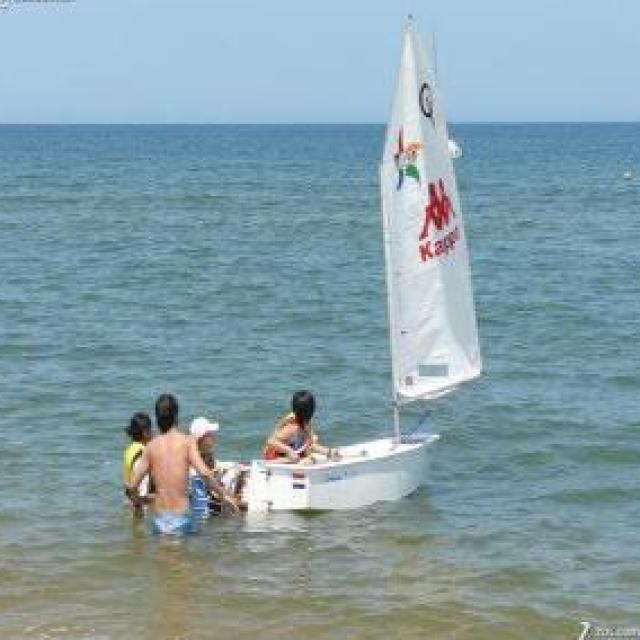sailboat: (243, 18, 490, 510)
